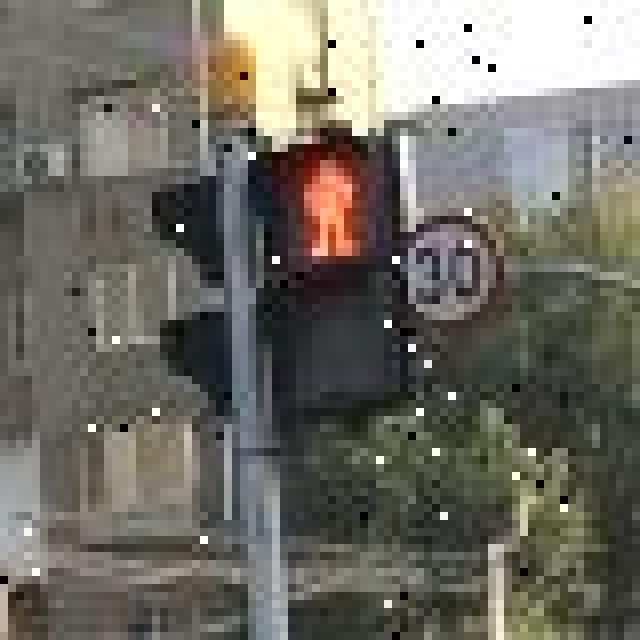redlight: (240, 120, 400, 464)
